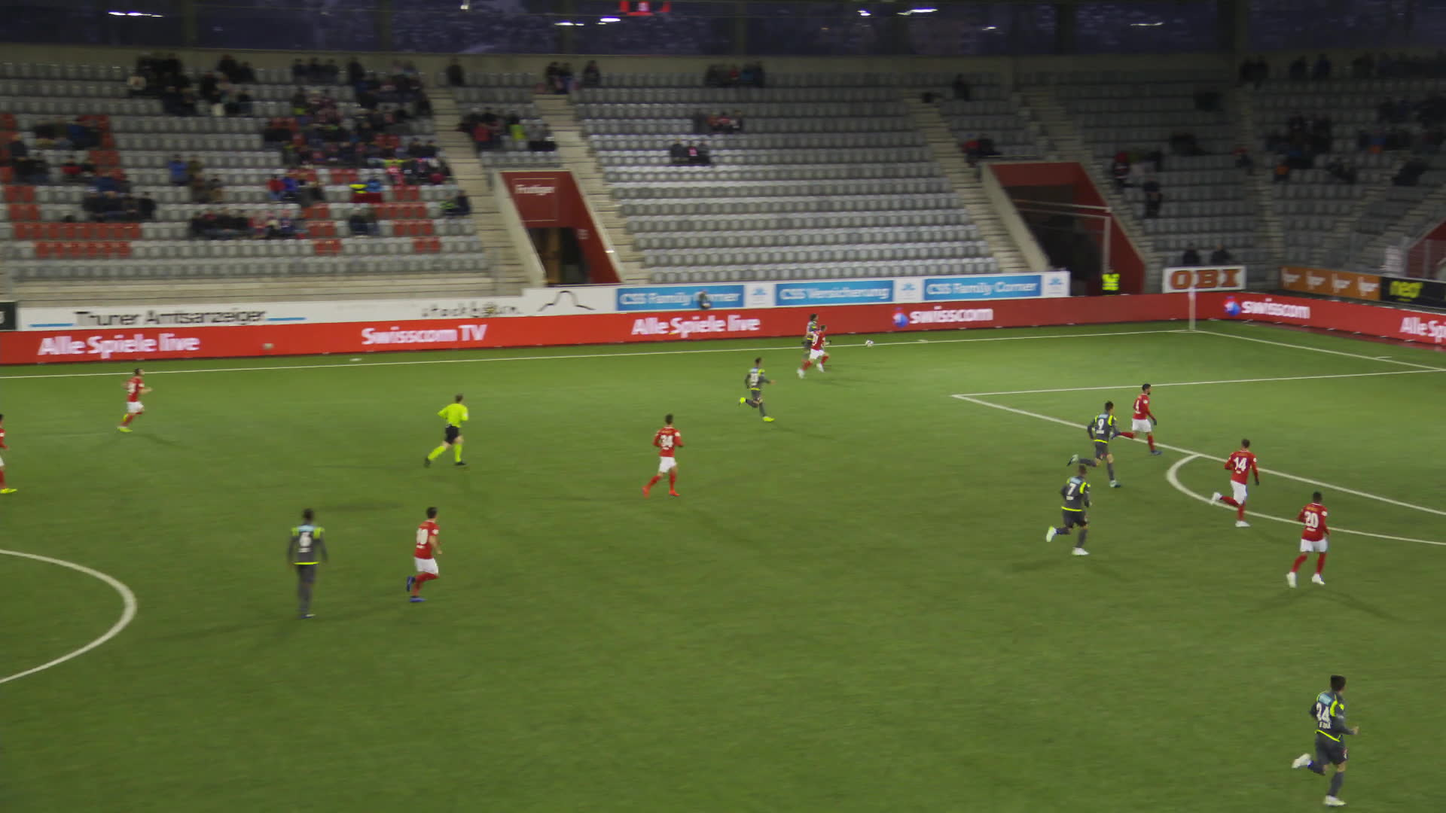ball: (867, 338, 875, 345)
player: (1283, 671, 1357, 805), (1043, 461, 1097, 555), (398, 506, 449, 602), (291, 506, 332, 617), (1213, 436, 1260, 528), (1071, 400, 1121, 486), (644, 414, 687, 503), (1114, 382, 1163, 456), (1295, 492, 1332, 589), (738, 354, 776, 420), (116, 366, 154, 431), (799, 324, 834, 377), (0, 413, 16, 496), (798, 313, 822, 366)
referee: (429, 391, 472, 470)
